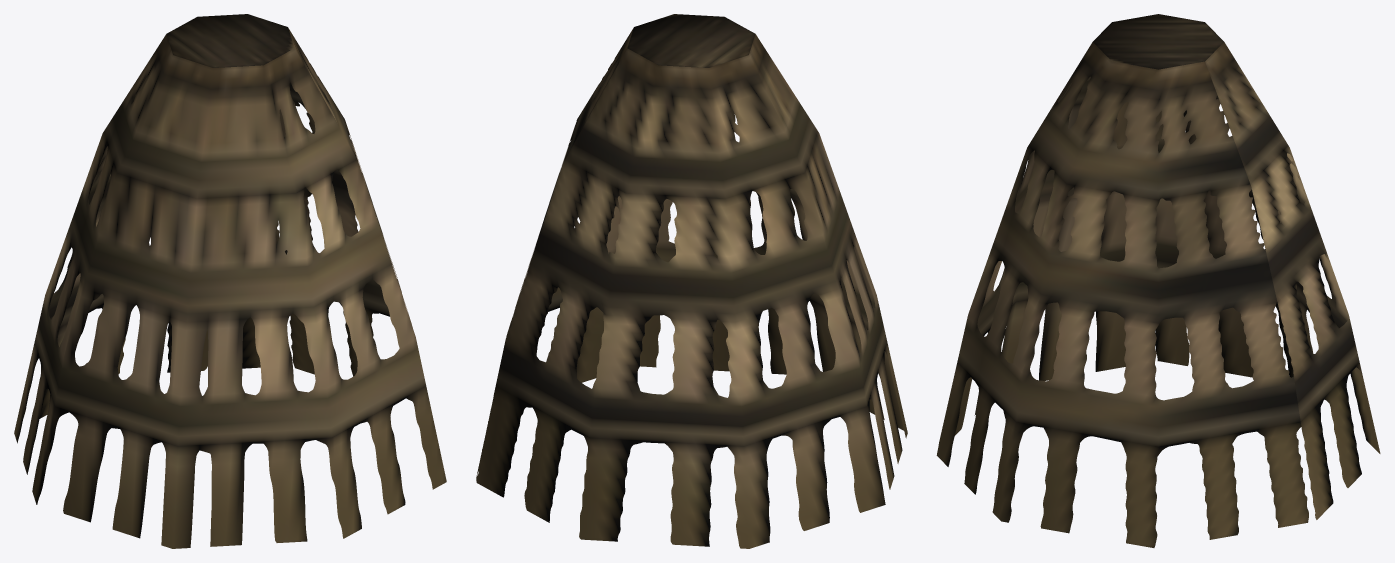
The model's file is straw trap.fbx.
3 renders of one model, left to right at view 1: azimuth 30°, elevation 25°; view 2: azimuth 150°, elevation 25°; view 3: azimuth 270°, elevation 25°, orthographic.
Visible parts, largest first — view 1: Straw_trap; view 2: Straw_trap; view 3: Straw_trap.
Boxes of the visible parts, x1=… form: Straw_trap: x1=14, y1=14, x2=446, y2=548; Straw_trap: x1=476, y1=14, x2=907, y2=548; Straw_trap: x1=936, y1=14, x2=1380, y2=547.
Size of the model in its own units: 0.7882 by 0.8085 by 0.7882.
